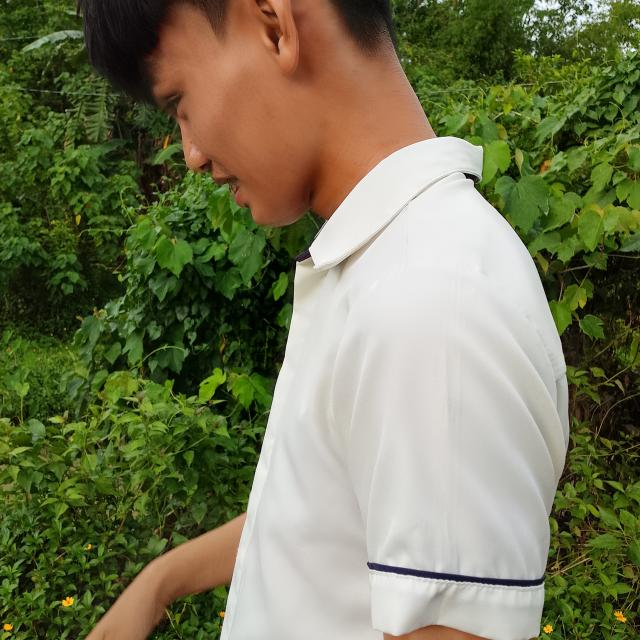education_male_uniform: (190, 208, 602, 640), (243, 120, 591, 316)
